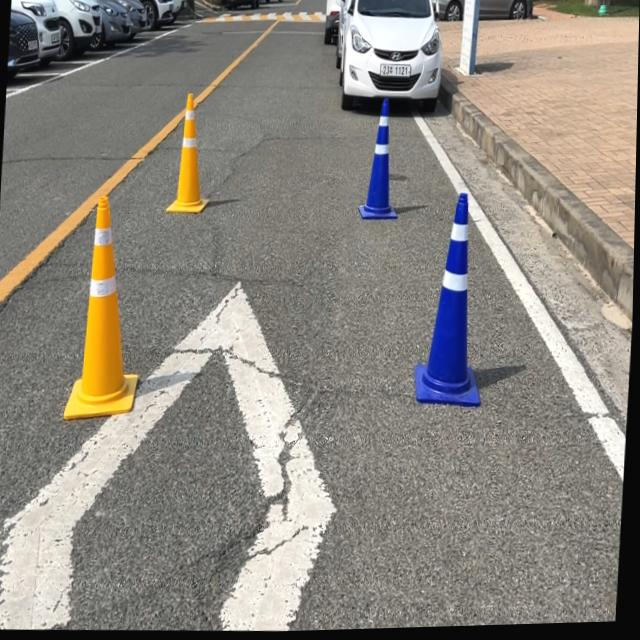b_rub: (417, 194, 482, 408), (359, 98, 398, 220)
y_rub: (65, 195, 139, 419), (167, 93, 209, 213)
